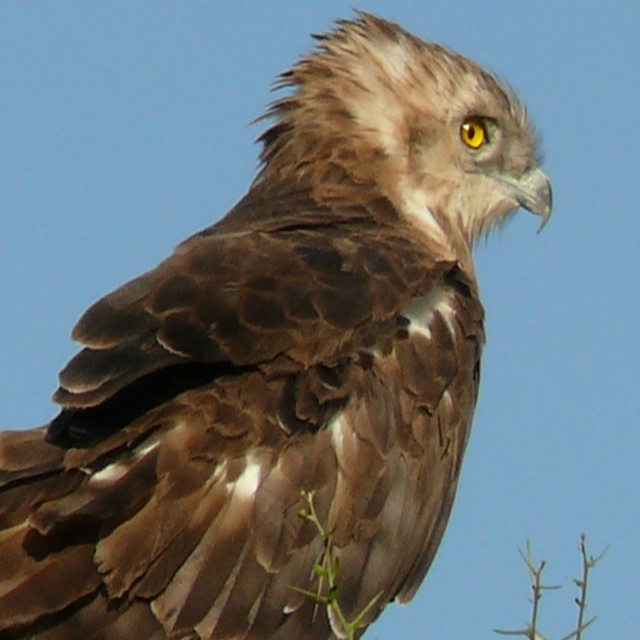Eagle: (5, 1, 557, 639)
